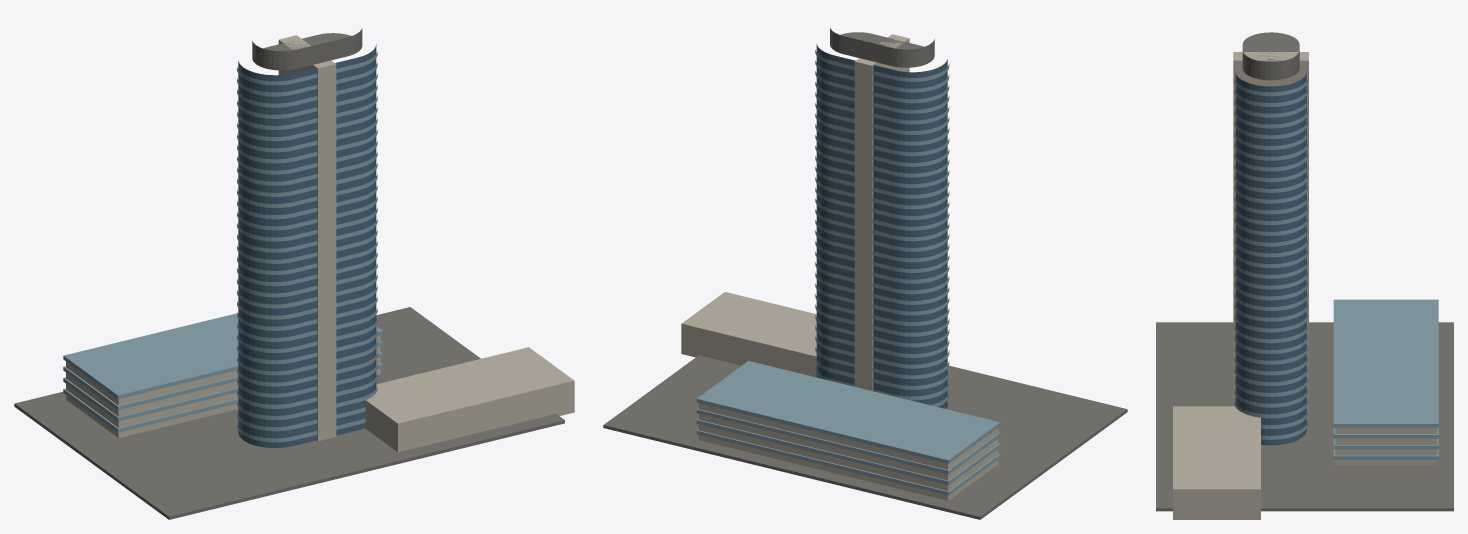
File: millbank_tower.glb
The picture shows the model from 3 angles, left to right: view 1: azimuth 30°, elevation 25°; view 2: azimuth 150°, elevation 25°; view 3: azimuth 270°, elevation 25°; orthographic projection. The views are drawn at different scales.
Visible parts, largest first — view 1: millbank_tower; view 2: millbank_tower; view 3: millbank_tower.
Boxes of the visible parts, left/top/right/bottom form: millbank_tower: left=14, top=28, right=574, bottom=519; millbank_tower: left=603, top=27, right=1127, bottom=519; millbank_tower: left=1156, top=32, right=1453, bottom=519.
Bounding box in the file's own units: 136 × 124 × 88.
